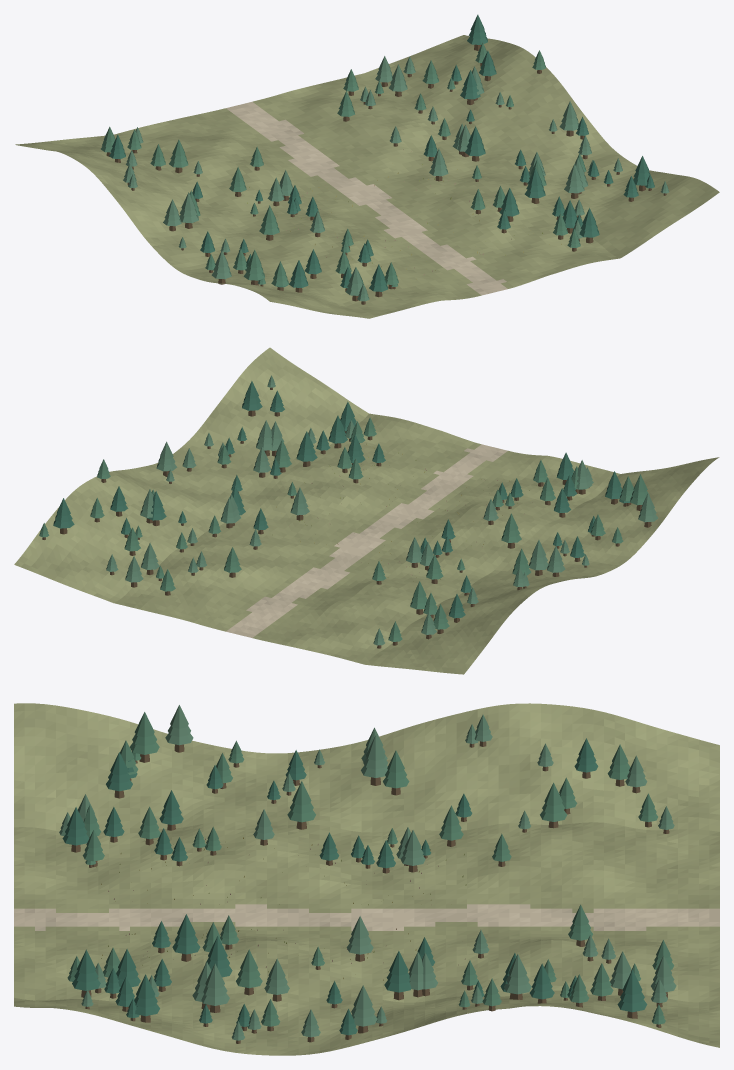
The model's file is ridge.glb.
3 renders of one model, top to bottom at view 1: azimuth 30°, elevation 25°; view 2: azimuth 150°, elevation 25°; view 3: azimuth 270°, elevation 25°, orthographic. The views are drawn at different scales.
Visible parts, largest first — view 1: ridge; view 2: ridge; view 3: ridge.
Boxes of the visible parts, <box> form: ridge: <box>15,14,719,318</box>; ridge: <box>14,347,719,674</box>; ridge: <box>14,703,719,1055</box>.
Size of the model in its own units: 68 by 9.23 by 67.
